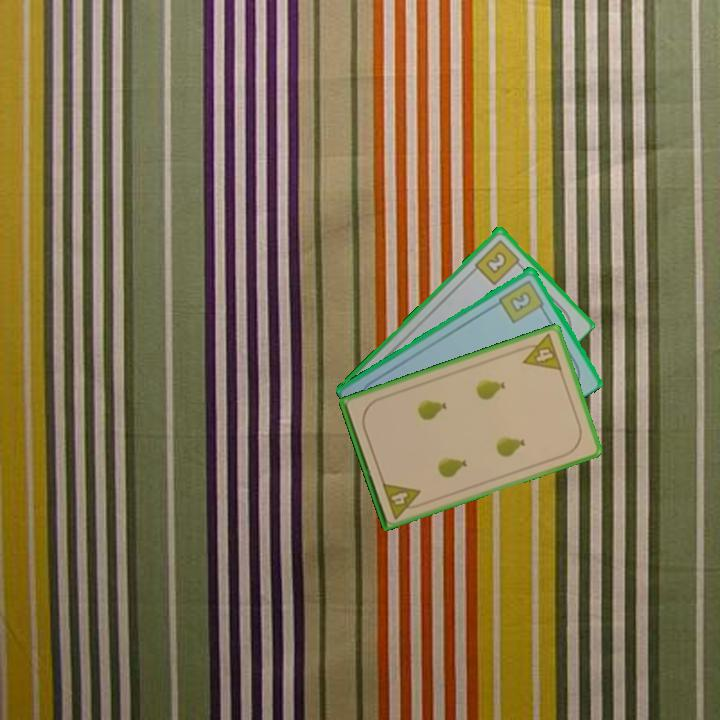2b: (471, 236, 525, 287), (495, 276, 548, 326)
4p: (515, 330, 565, 374), (379, 479, 427, 522)
